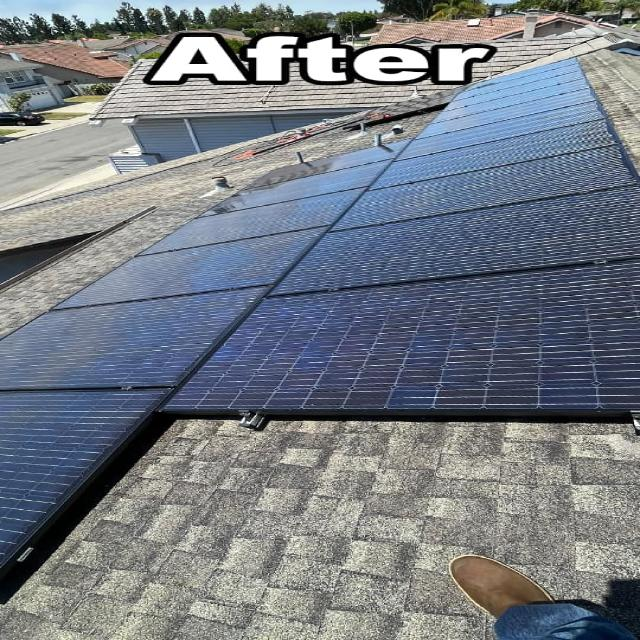clean-solar-panel: (5, 59, 640, 549)
